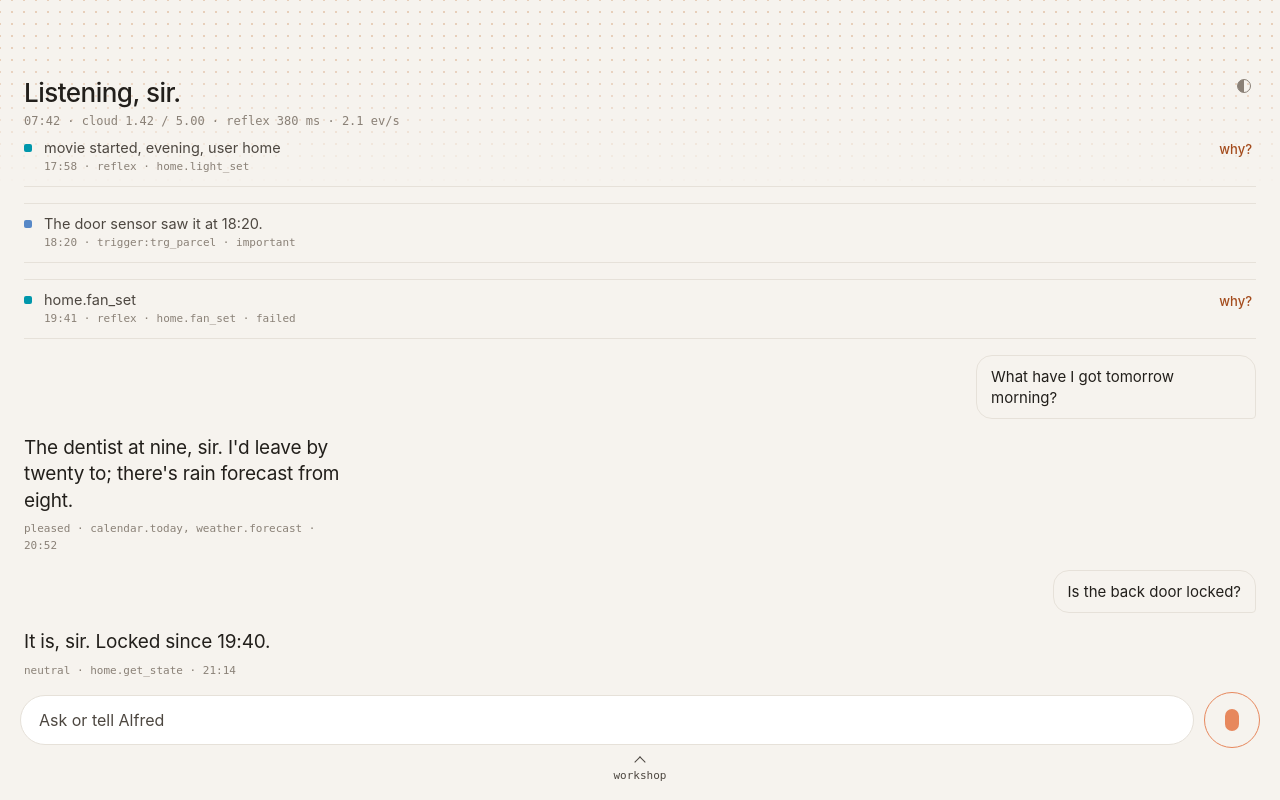
it: App › asks why from the Workshop, and the sheet paints over it
(page scrolled)
expect the text "What have I got tomorrow morning?" is shown: met, box left=976, top=355, right=1256, bottom=419
Click the button with aria-label "Open the Workshop" at (640, 778), box left=0, top=756, right=1279, bottom=799
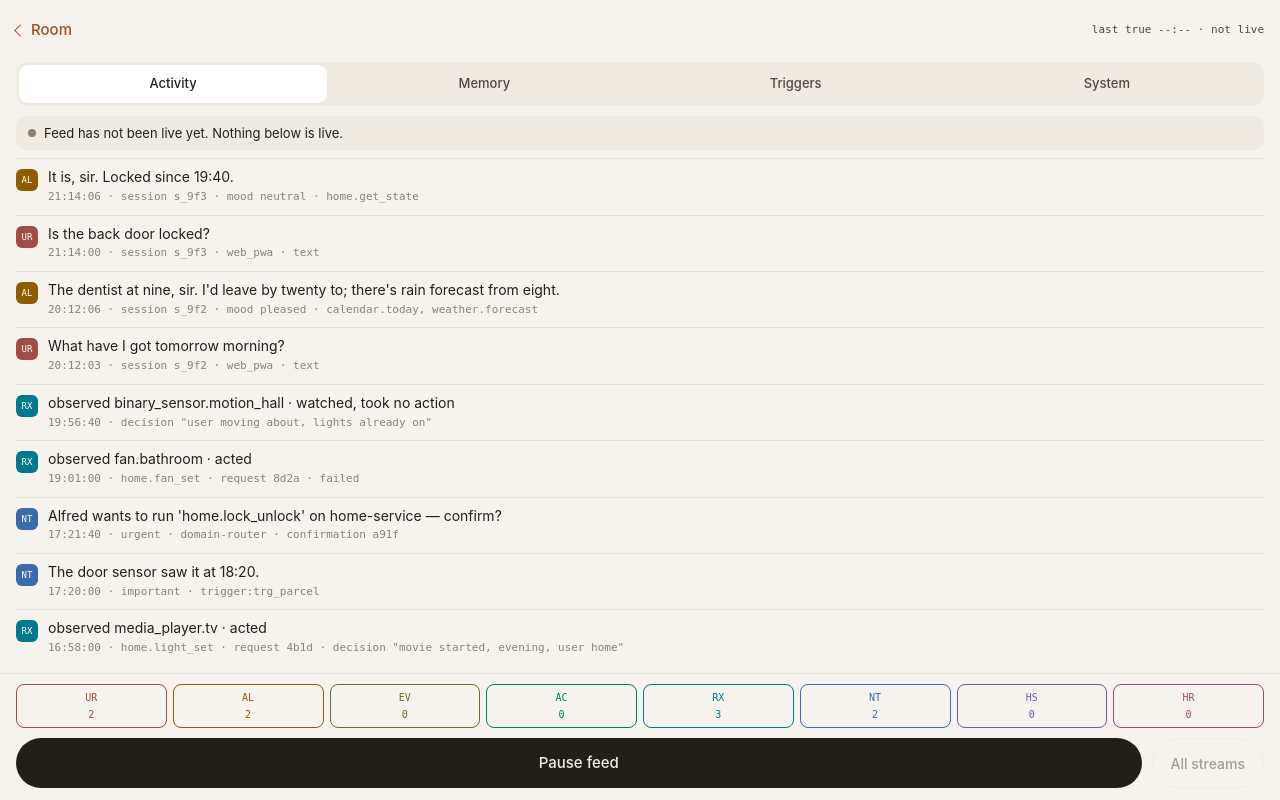
Note: `Why · causal thread` is offered on an open row only.
Click the text "observed media_player.tv · acted" at (157, 628), box left=48, top=619, right=267, bottom=636
(page scrolled)
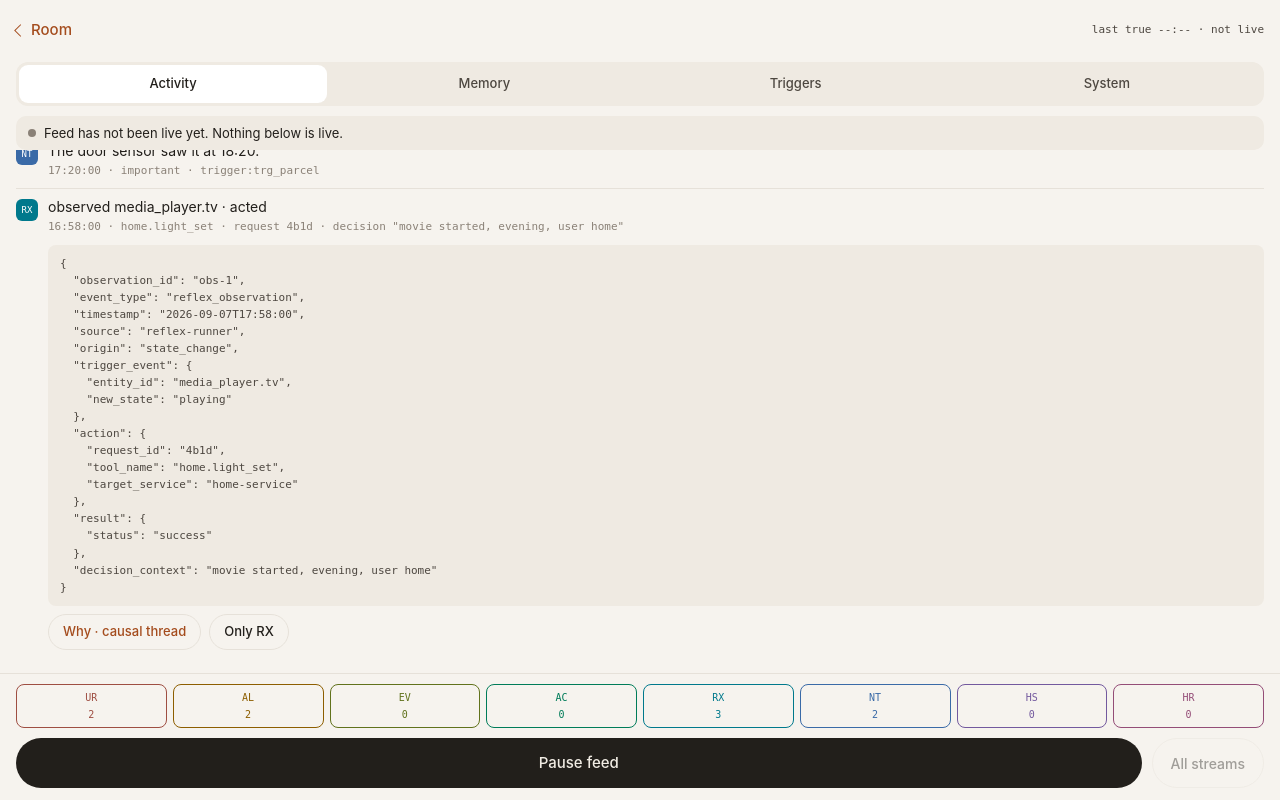
Click the button "Why · causal thread" at (125, 632), box left=48, top=614, right=201, bottom=650
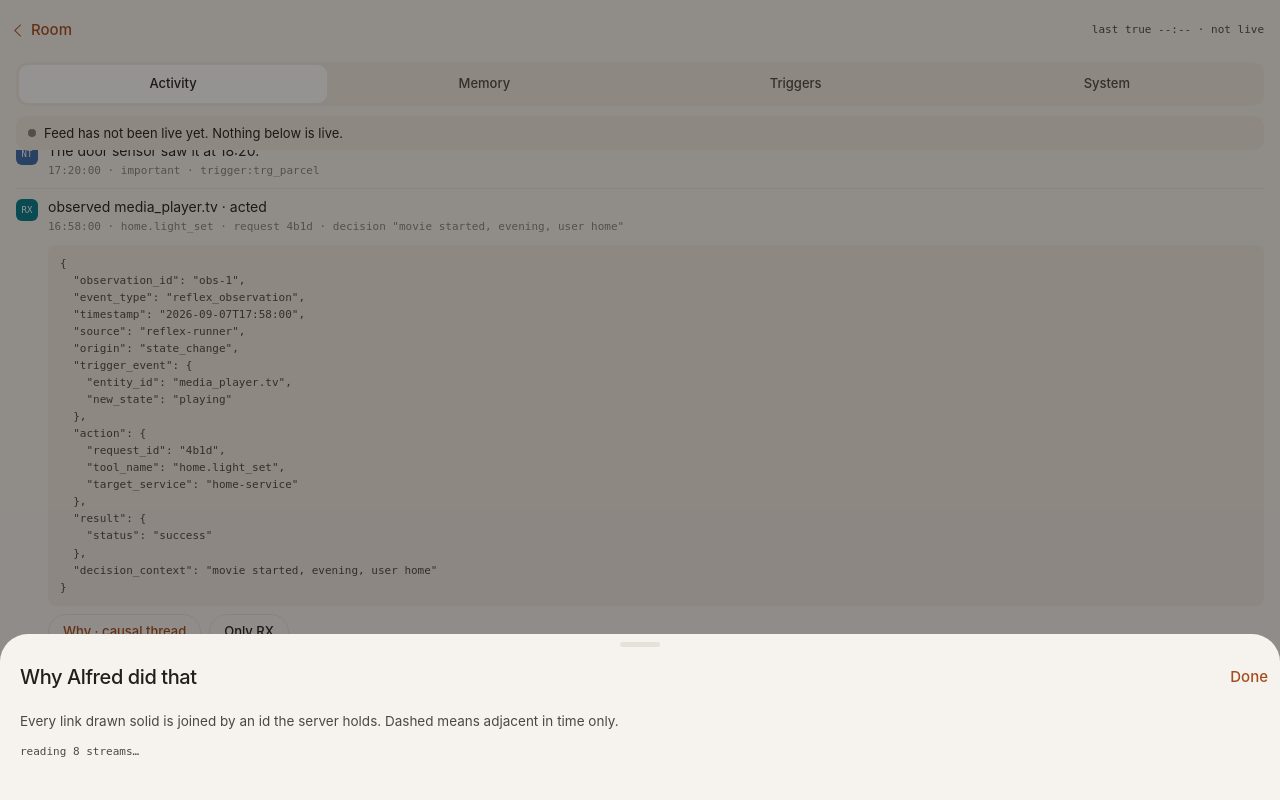
expect the dialog named "Workshop" has attribute inert: met
Click the button "Done" at (1246, 677), box left=1224, top=655, right=1268, bottom=699
Wait 380 ms
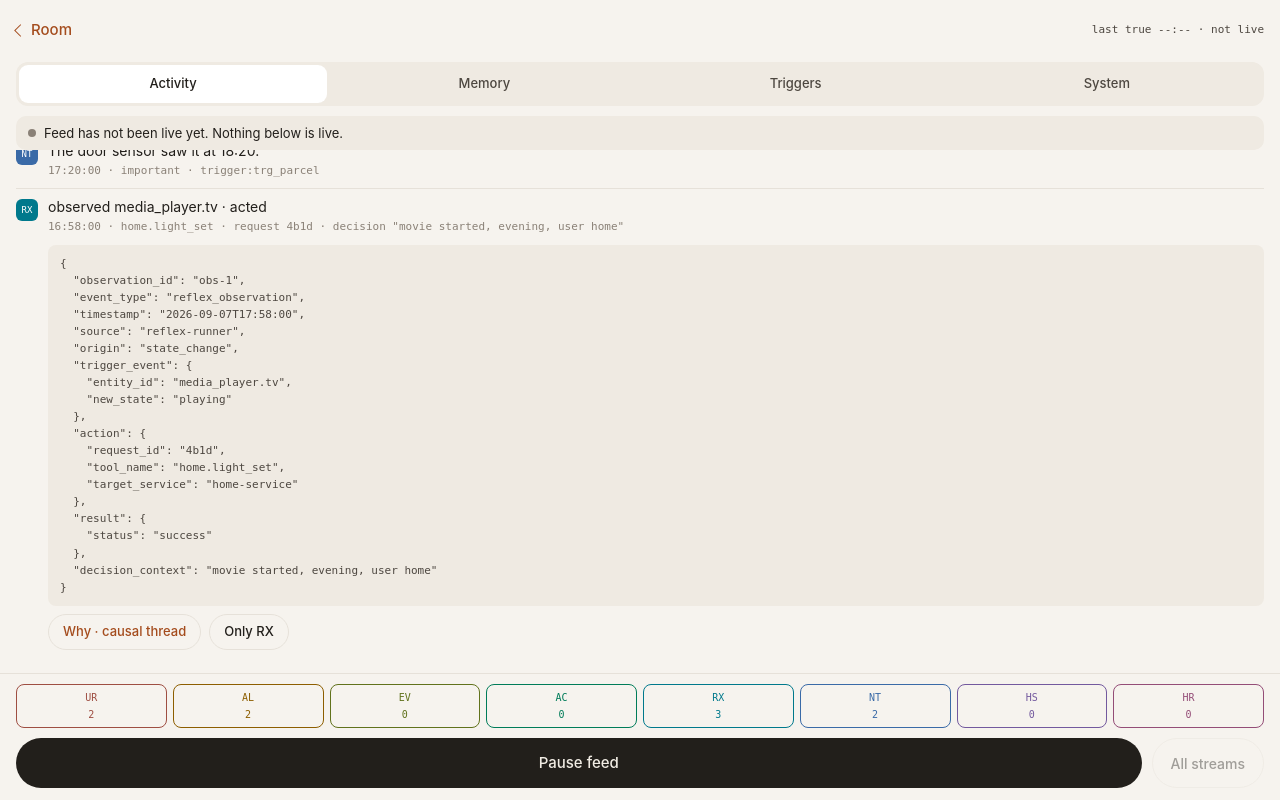
expect the heading "Why Alfred did that" is gone: met
